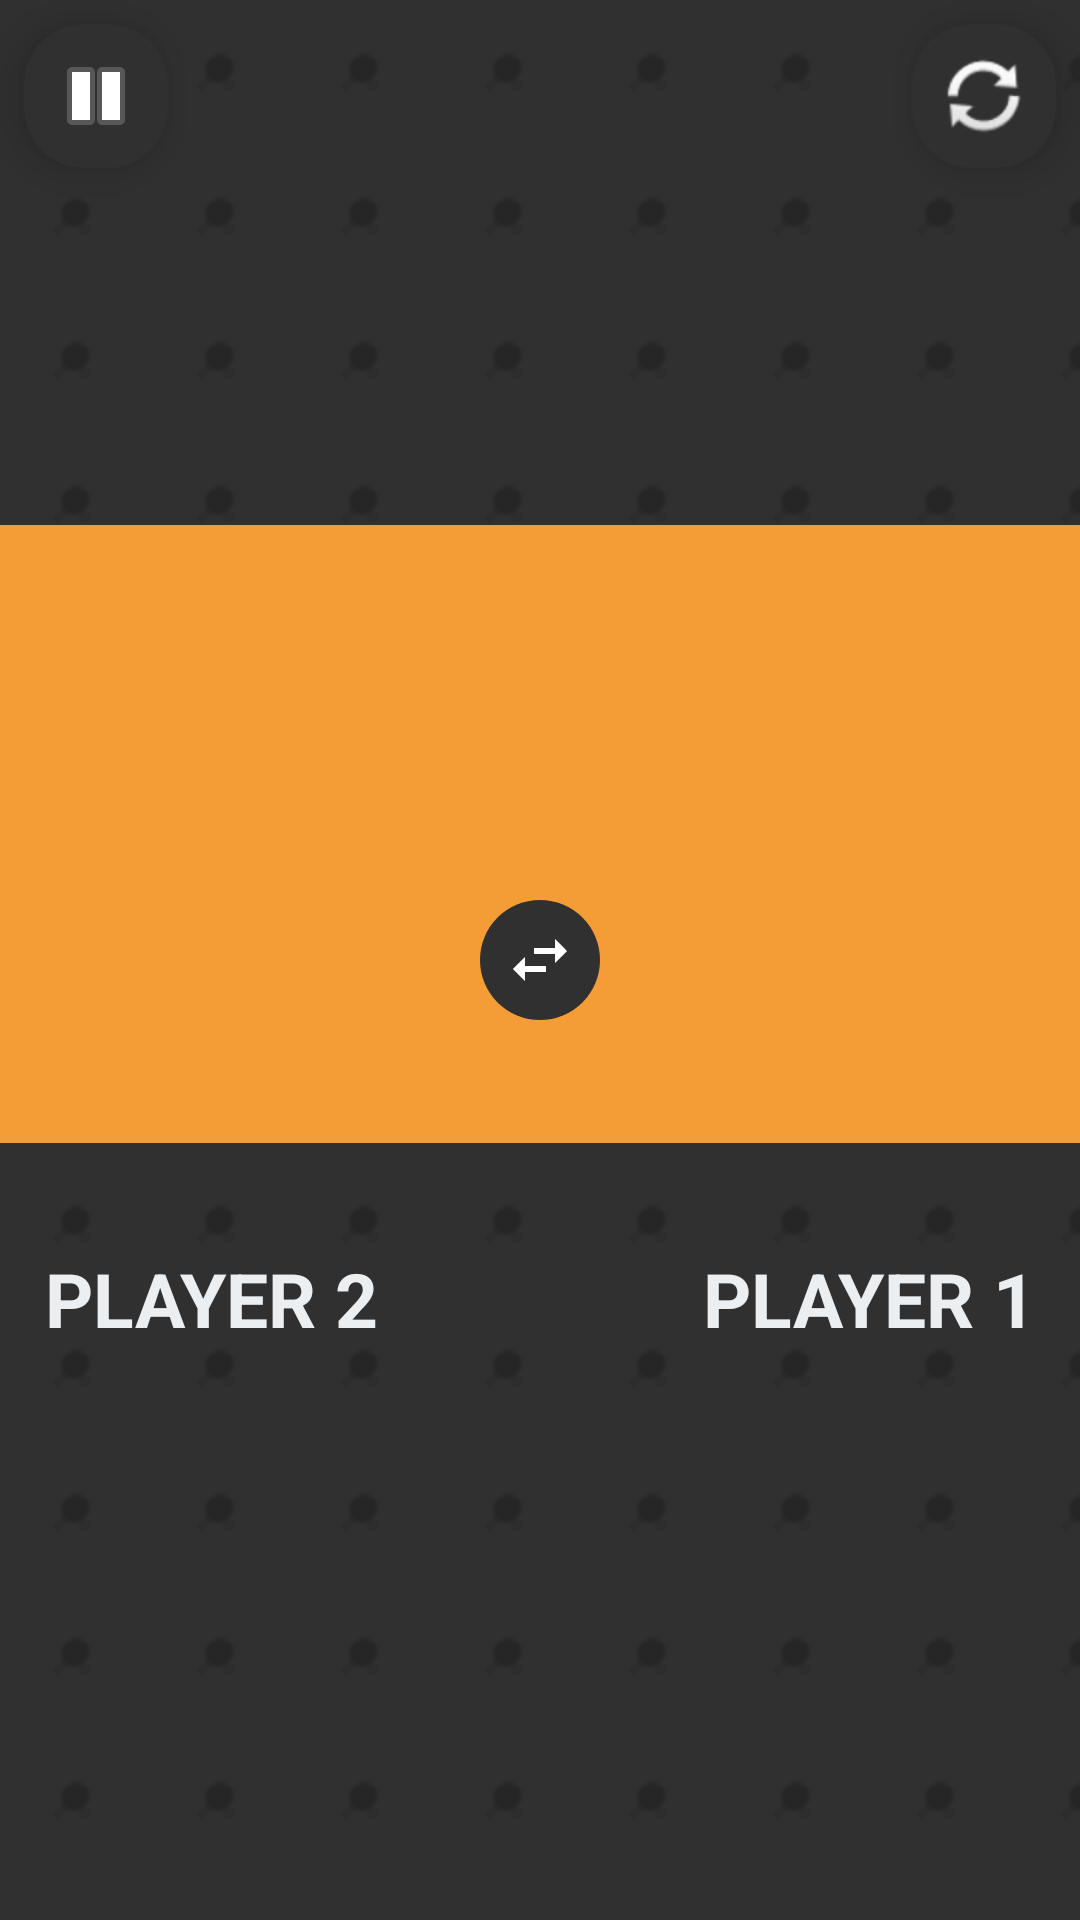

Named icons in this screenshot (1080px x 1920px) and their bounding boxes, (x1, y1, x2, y2):
Pause / Resume Button: (67, 67, 125, 125)
Refresh Button: (947, 60, 1020, 132)
